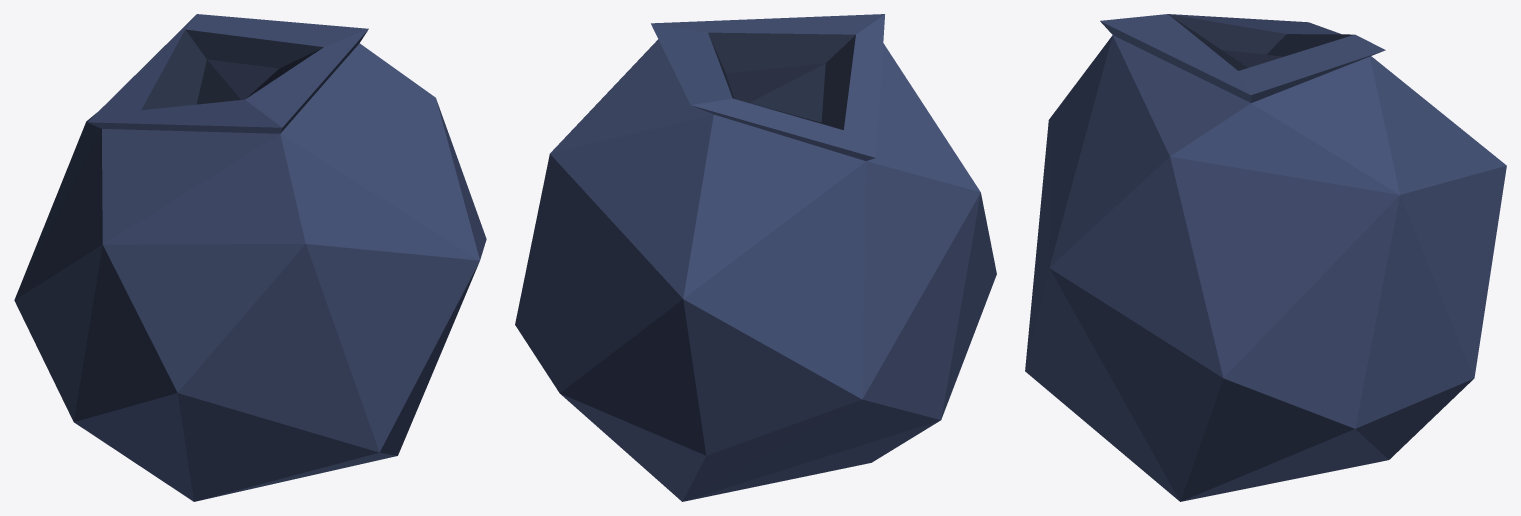
Rendered from Arándano.fbx.
3 renders of one model, left to right at view 1: azimuth 30°, elevation 25°; view 2: azimuth 150°, elevation 25°; view 3: azimuth 270°, elevation 25°, orthographic. The views are drawn at different scales.
Parts seen in each view (by area): view 1: blueberry; view 2: blueberry; view 3: blueberry.
Part boxes in pixels (left/top/right/bottom): blueberry: left=14, top=14, right=486, bottom=501; blueberry: left=515, top=14, right=996, bottom=501; blueberry: left=1025, top=14, right=1506, bottom=501.
Size of the model in its own units: 0.4138 by 0.4009 by 0.4195.
